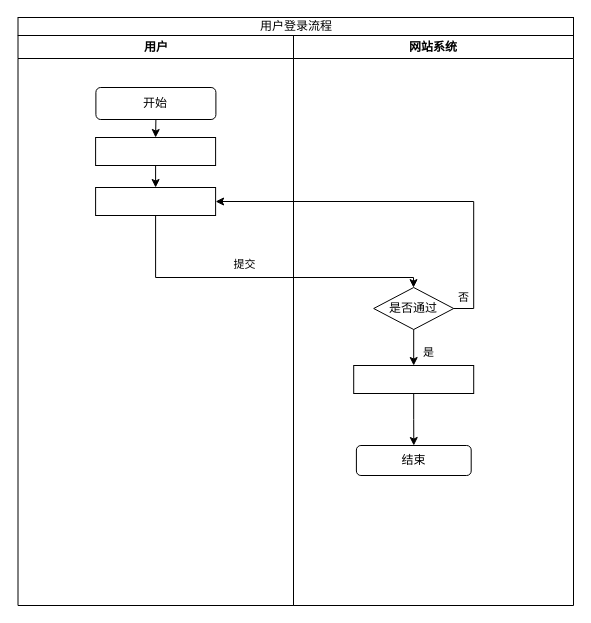
The diagram is 591 pixels wide and 623 high, and some of its shapes have lost their labels. The shapes that lost their labels are listed below. From the top down, each one's centre as x and y in pixels, then its label:
the point at 155,151: 登录
the point at 155,201: 填写账号密码
the point at 413,379: 保存登录状态
